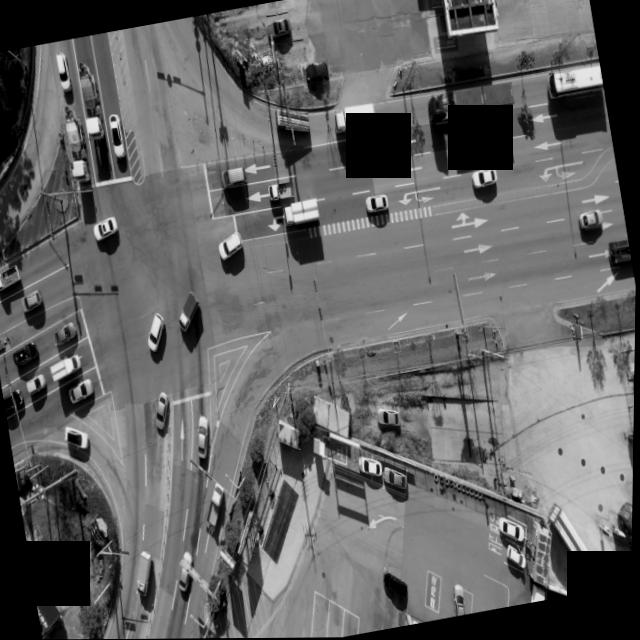car: (382, 568, 412, 607), (175, 550, 200, 594), (150, 390, 174, 433), (193, 415, 215, 461), (144, 312, 168, 354), (217, 232, 246, 264), (499, 515, 527, 548), (65, 421, 94, 452), (265, 16, 295, 44), (108, 113, 126, 158), (56, 51, 74, 92), (69, 379, 97, 405), (13, 340, 41, 366), (506, 543, 529, 574), (94, 215, 121, 241), (54, 321, 81, 346), (360, 454, 385, 479), (385, 468, 410, 493), (223, 166, 250, 189), (376, 406, 401, 430), (471, 168, 498, 190), (3, 389, 25, 415), (305, 60, 330, 82), (578, 211, 604, 232), (21, 290, 45, 312), (454, 584, 470, 616), (26, 374, 49, 395), (365, 194, 389, 214)
large_bus: (550, 64, 604, 100)
large_truck: (428, 83, 518, 126)
medium_truck: (553, 499, 611, 595), (75, 60, 107, 139), (62, 114, 92, 183), (332, 104, 377, 138), (277, 106, 316, 139), (284, 199, 323, 228), (608, 241, 633, 268)
small_truck: (201, 483, 232, 535), (130, 552, 159, 601), (48, 352, 85, 384), (175, 295, 204, 332), (0, 263, 23, 291), (268, 180, 295, 202)
